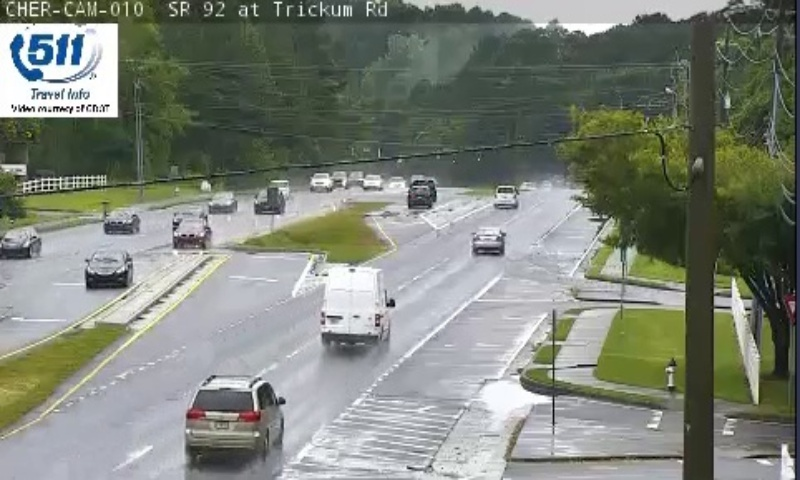car: (185, 377, 283, 451), (471, 227, 502, 250), (492, 185, 517, 207)
van: (321, 265, 388, 342)
